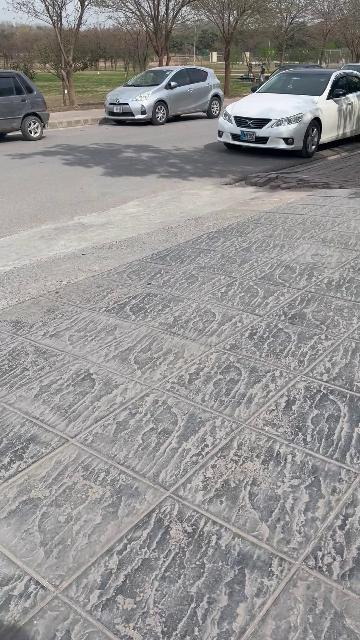plate: (239, 130, 256, 141)
